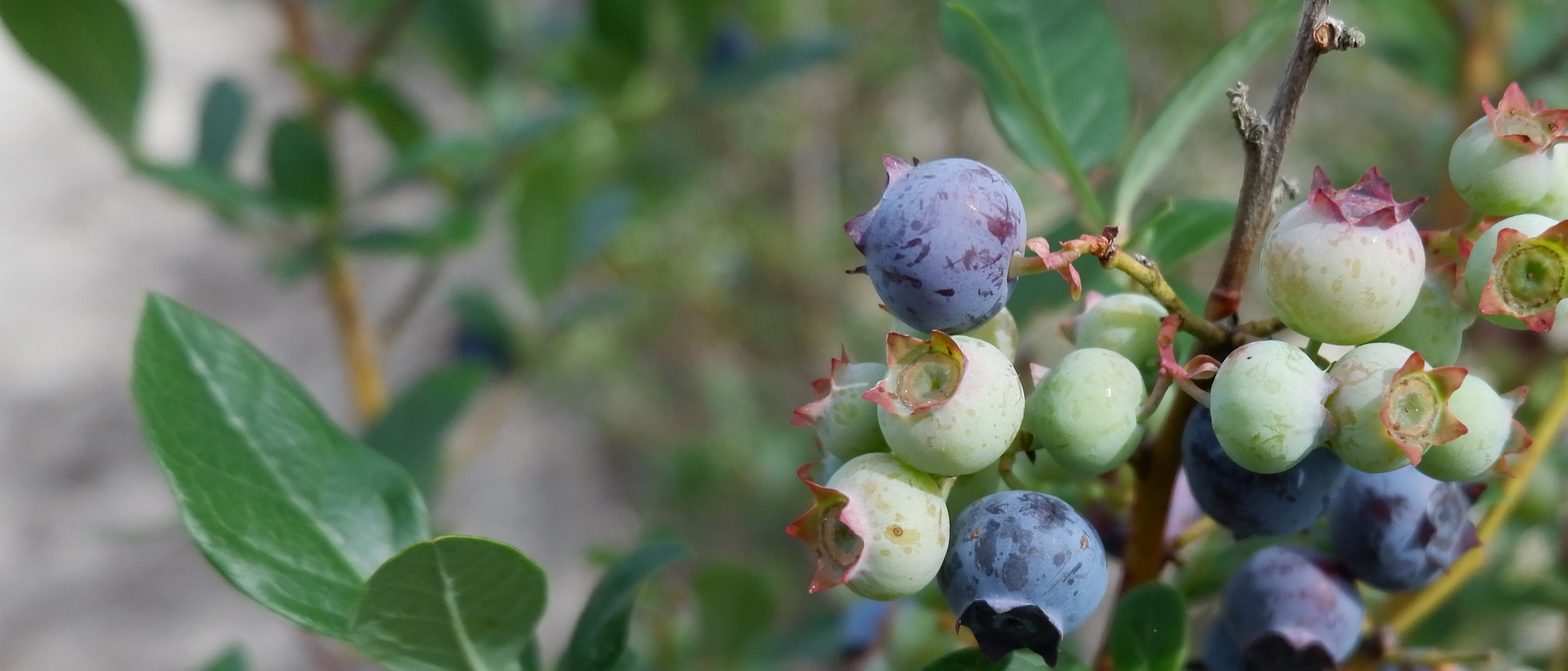Immature: (1262, 171, 1422, 340), (793, 457, 950, 596), (876, 335, 1026, 471), (1215, 344, 1333, 470), (1030, 352, 1146, 475), (1331, 347, 1445, 470), (1454, 97, 1558, 217), (1467, 218, 1566, 328), (1422, 370, 1520, 478), (1079, 294, 1184, 393), (1380, 266, 1470, 366), (797, 360, 886, 458), (957, 311, 1018, 361)
Mature: (852, 157, 1026, 328), (944, 493, 1104, 658), (1187, 397, 1339, 532), (1332, 468, 1476, 587), (1223, 545, 1363, 667)
